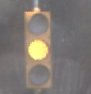Yellow: (19, 9, 56, 91)
